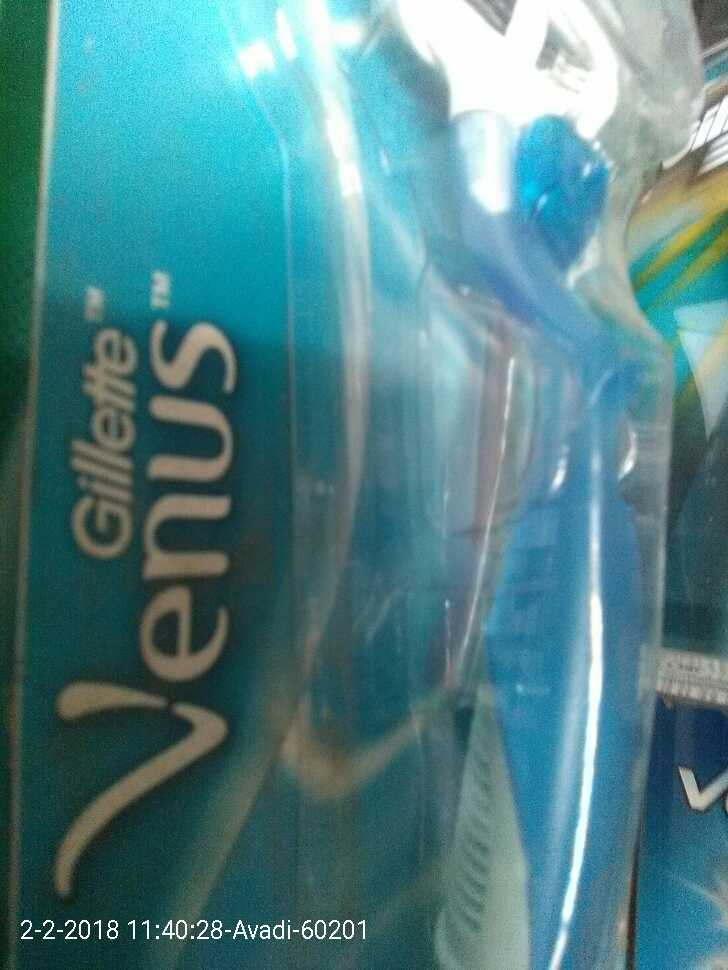reject: (116, 272, 291, 426)
